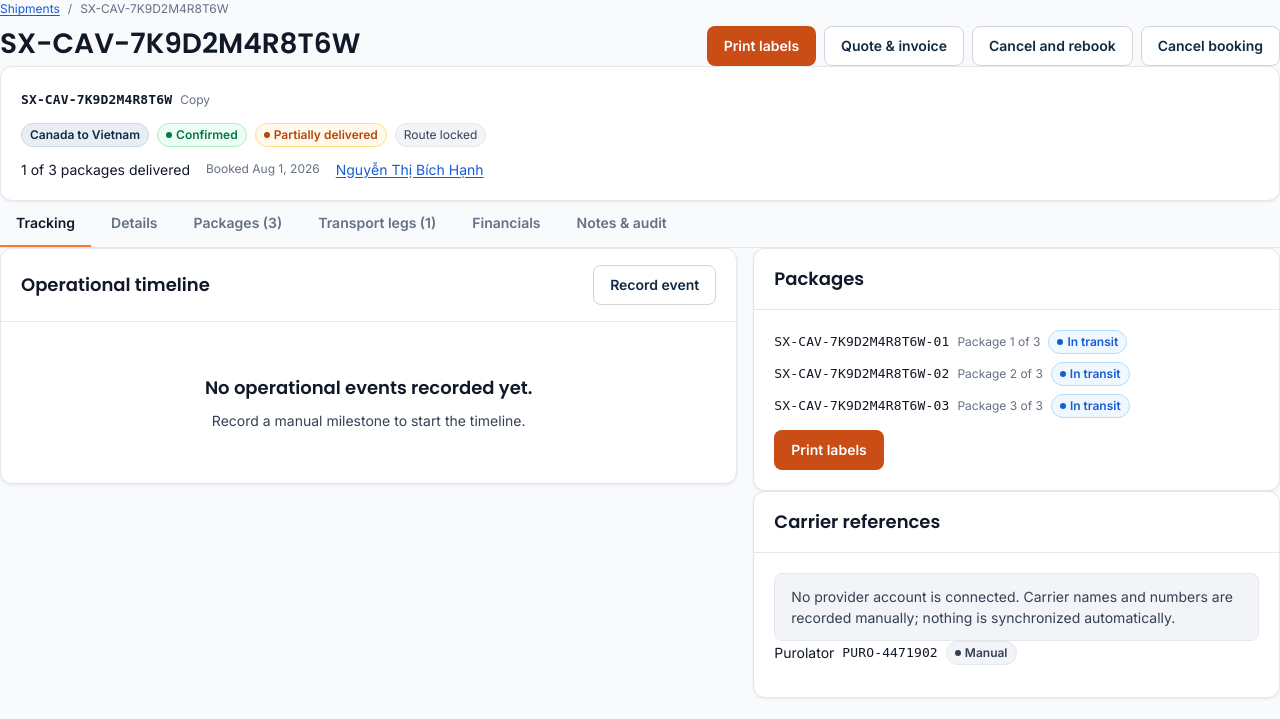
Test: ShipmentDetailPage › shows the address snapshots with a note that they are copies
Click the tab "Details".
click(134, 224)  # box left=95, top=200, right=174, bottom=246
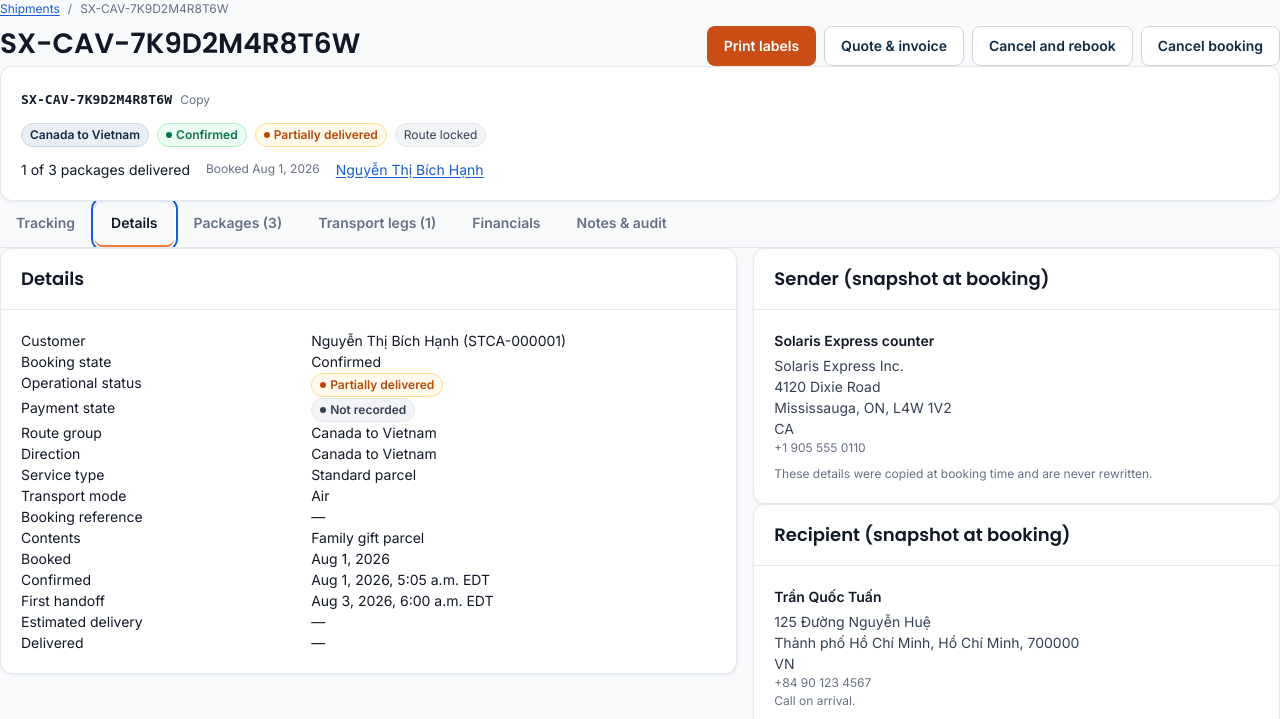
expect the heading "Recipient (snapshot at booking)" is shown: met, box left=774, top=520, right=1071, bottom=548
expect the text "125 Đường Nguyễn Huệ" is shown: met, box left=774, top=612, right=931, bottom=630
expect the text "copied at booking time and are never rewritten" below "+1 905 555 0110" is shown: met, box left=774, top=466, right=1152, bottom=480
